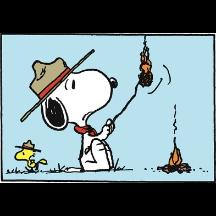snoopy: (29, 48, 119, 174)
